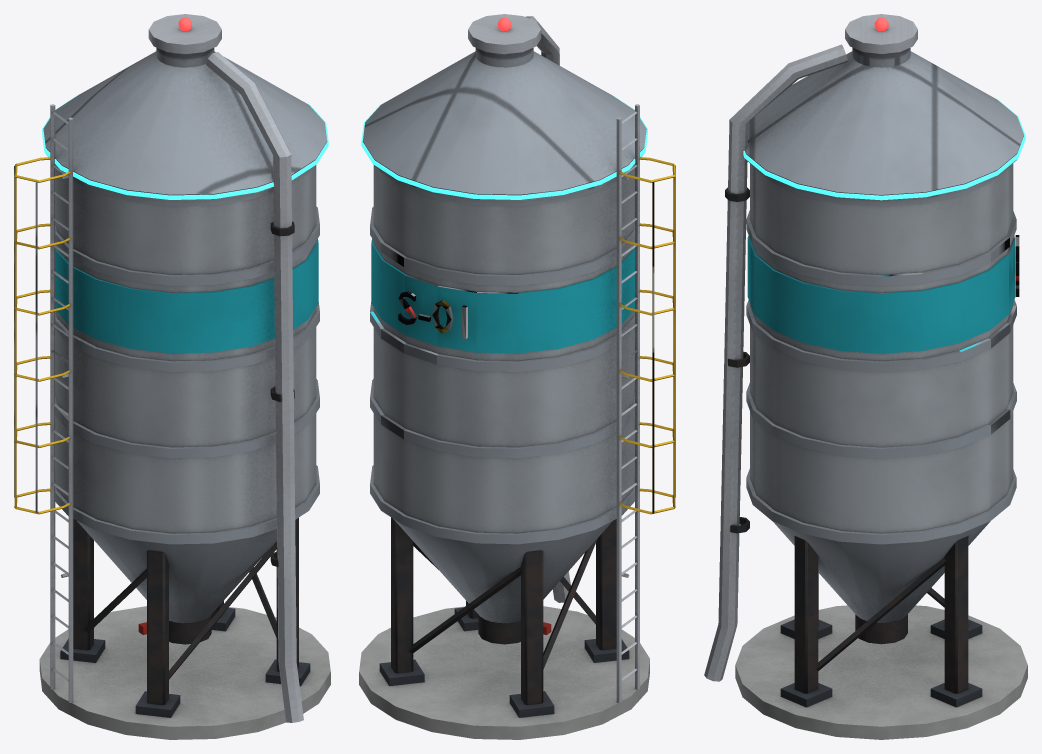
File: silo_almacen.fbx
3 views of the same model, side by side, from view 1: azimuth 30°, elevation 25°; view 2: azimuth 150°, elevation 25°; view 3: azimuth 270°, elevation 25° (orthographic).
Parts seen in each view (by area): view 1: silo_almacen, silo_almacen_neon; view 2: silo_almacen, silo_almacen_neon; view 3: silo_almacen, silo_almacen_neon.
Part boxes in pixels (x1,y1,x2,y2): silo_almacen: (14,14,330,739); silo_almacen_neon: (42,94,328,199); silo_almacen: (359,14,675,739); silo_almacen_neon: (361,94,647,199); silo_almacen: (704,14,1027,739); silo_almacen_neon: (743,99,1025,200).
Size of the model in its own units: 4.7 by 9.96 by 4.43.
Materials: 2 (2 with a texture image).
